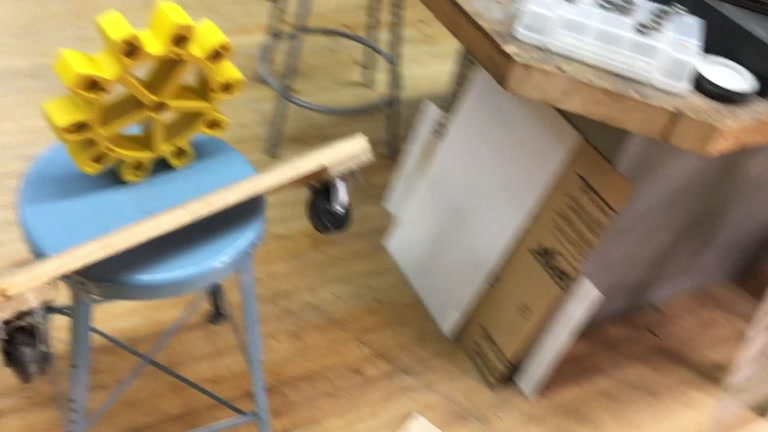gear: (45, 1, 249, 187)
